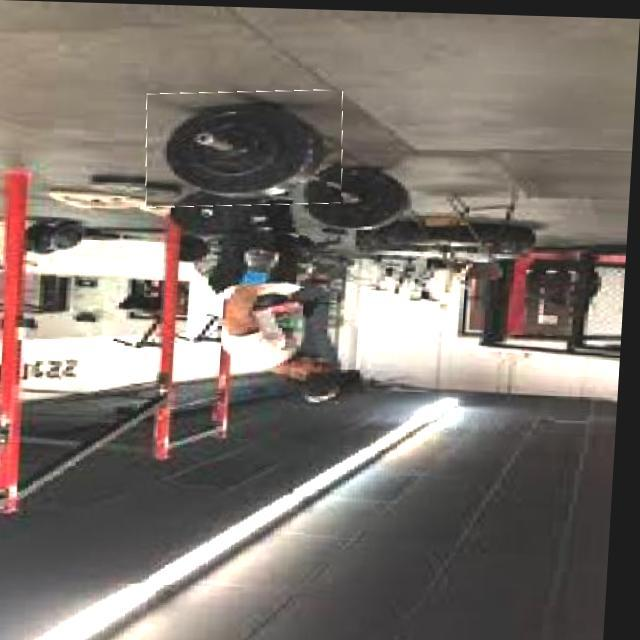barbell: (145, 87, 349, 210)
